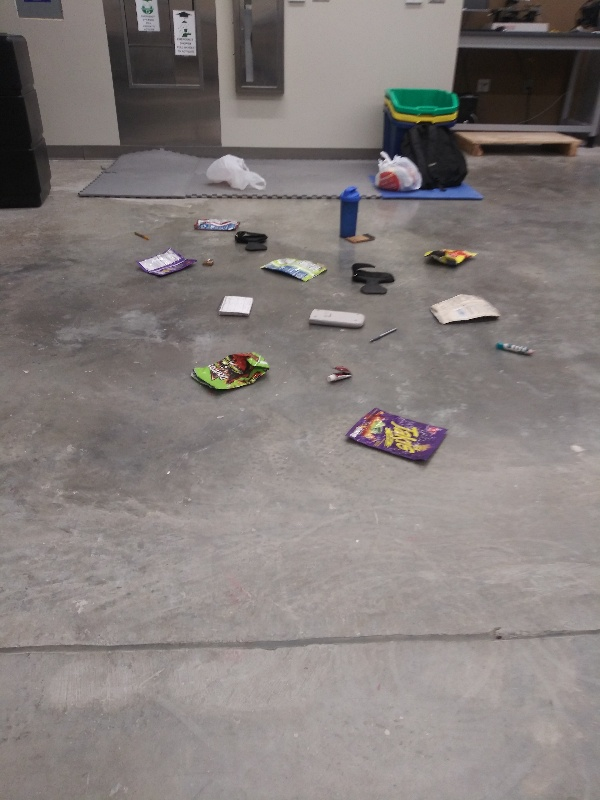bag: (342, 406, 452, 468), (186, 349, 273, 394), (425, 290, 504, 328), (253, 253, 333, 286), (136, 245, 200, 277), (419, 241, 481, 272), (189, 214, 244, 232)
